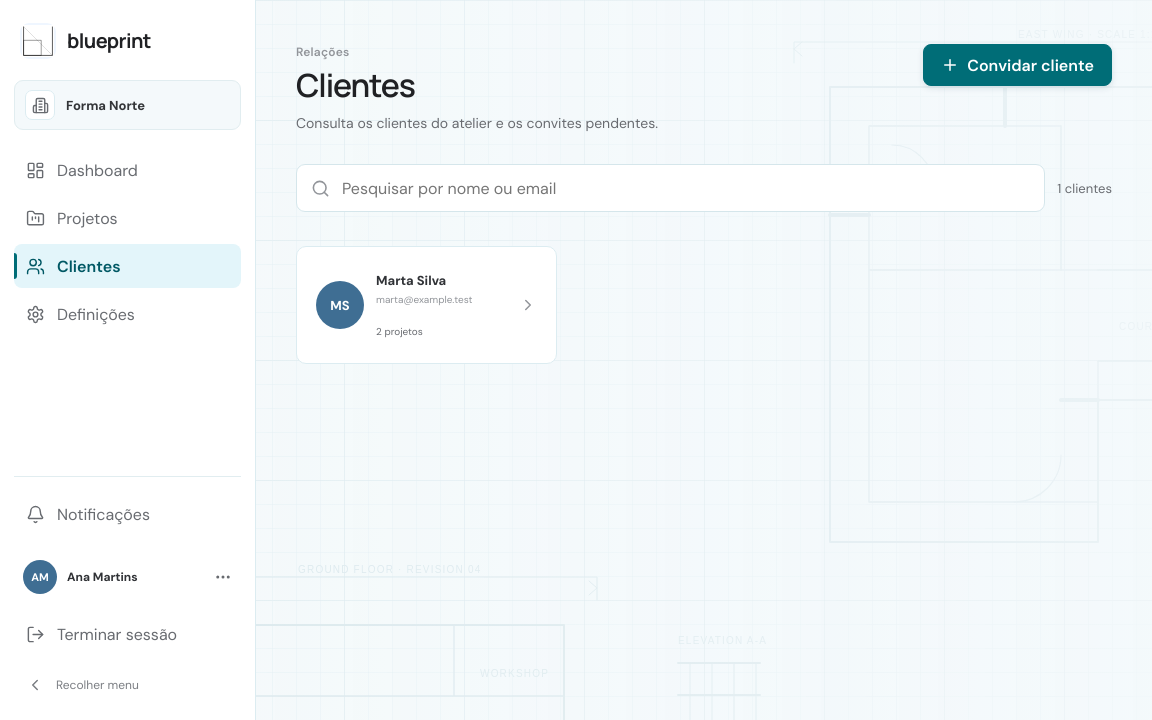
Test: CompanyClientPage › allows an owner to create an invitation and refreshes the pending UI
This screenshot has width=1152, height=720.
Click the button "Convidar cliente".
click(1018, 65)  # box [923,44,1112,86]
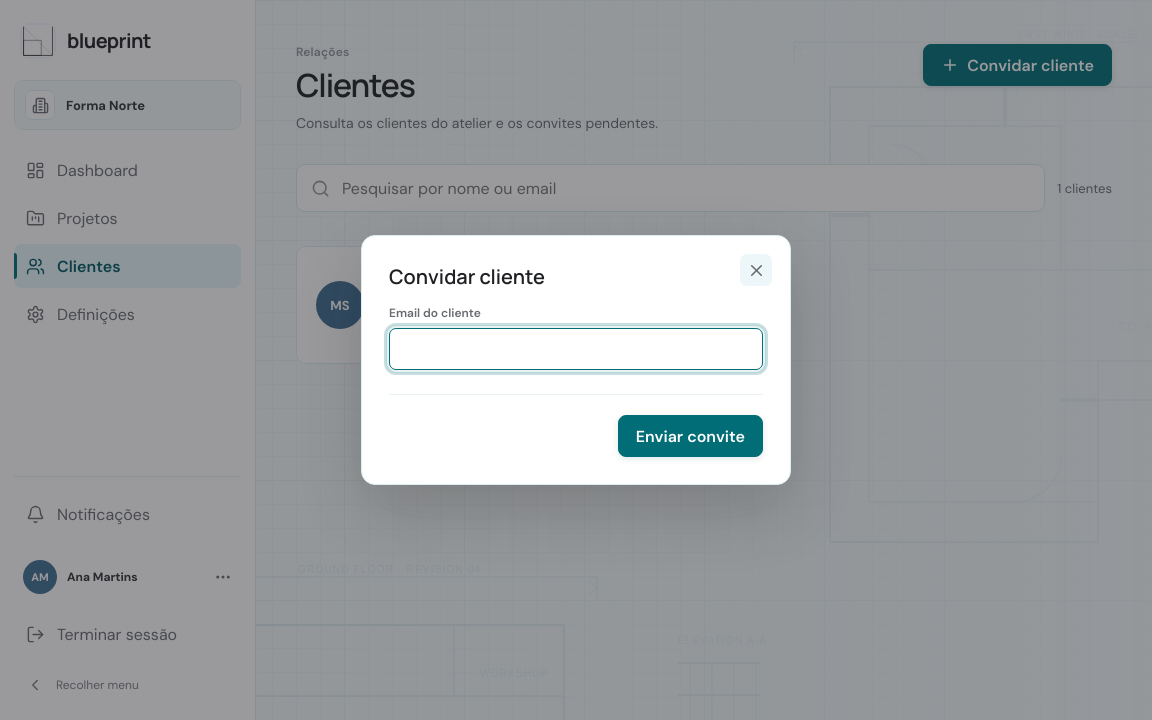
Type "new@example.test" into the field labelled "Email do cliente".
click(576, 349); type("new@example.test")  # box [389,328,763,370]
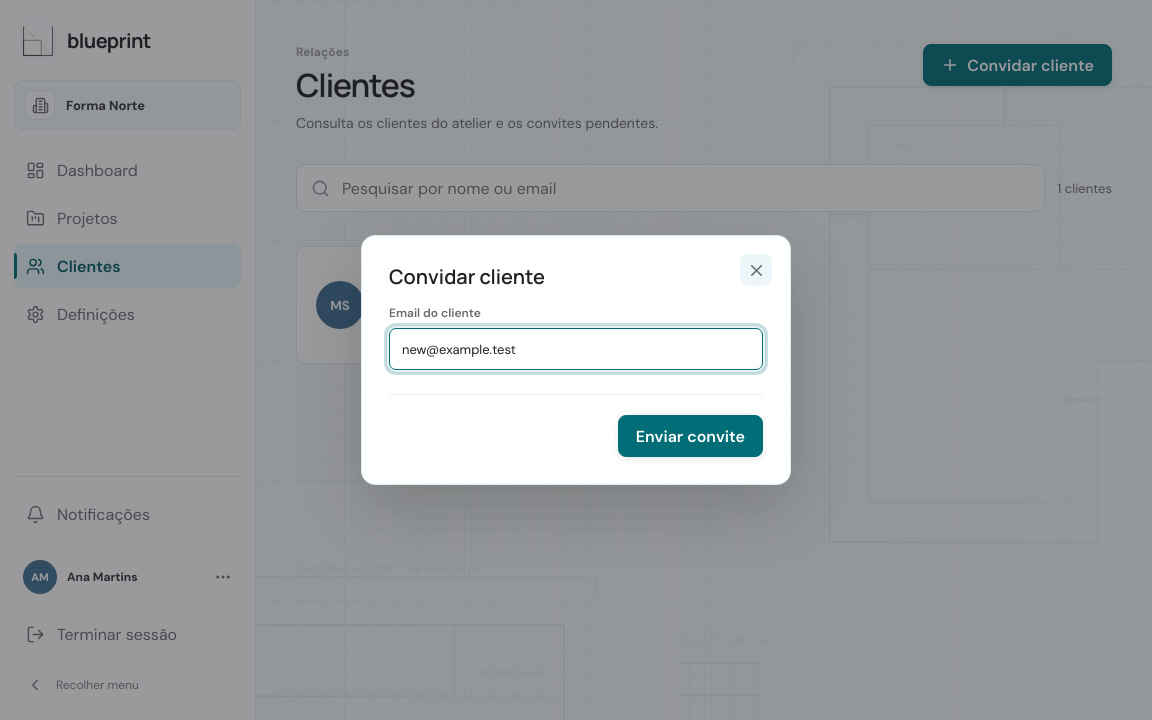
Click the button "Enviar convite".
click(690, 436)  # box [618,415,763,457]
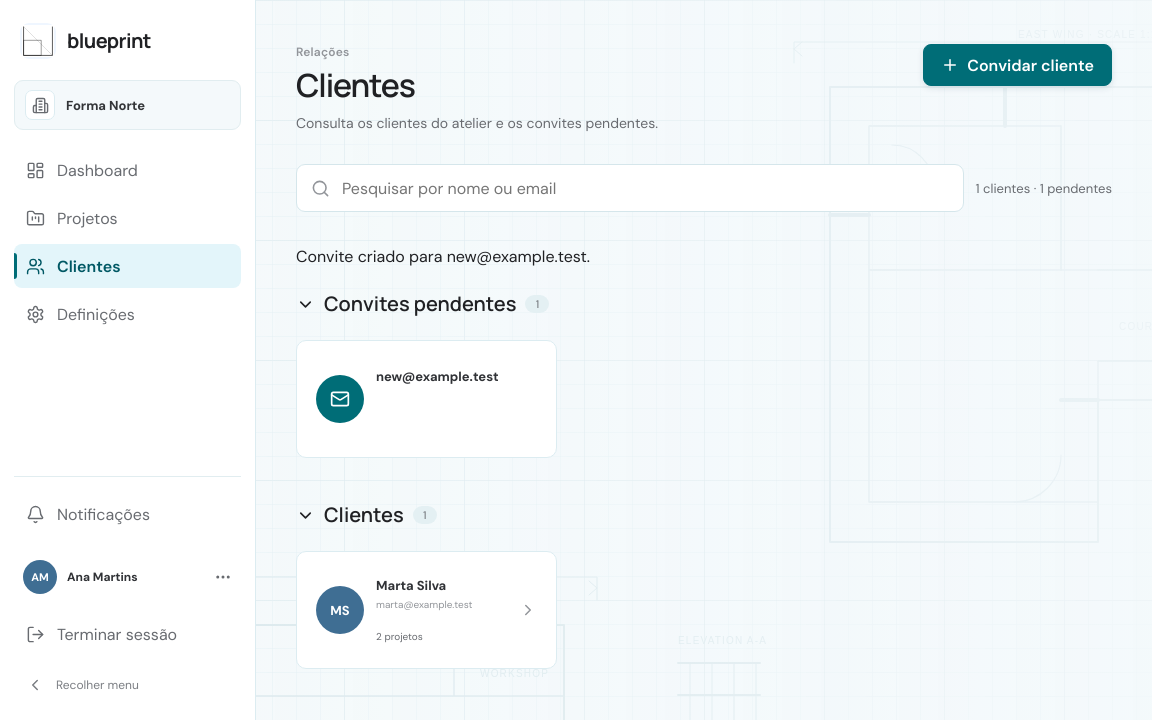
Expected: the text "new@example.test" is shown, [376,368,498,384]
Expected: the message shows "Convite criado", [296,246,590,267]
